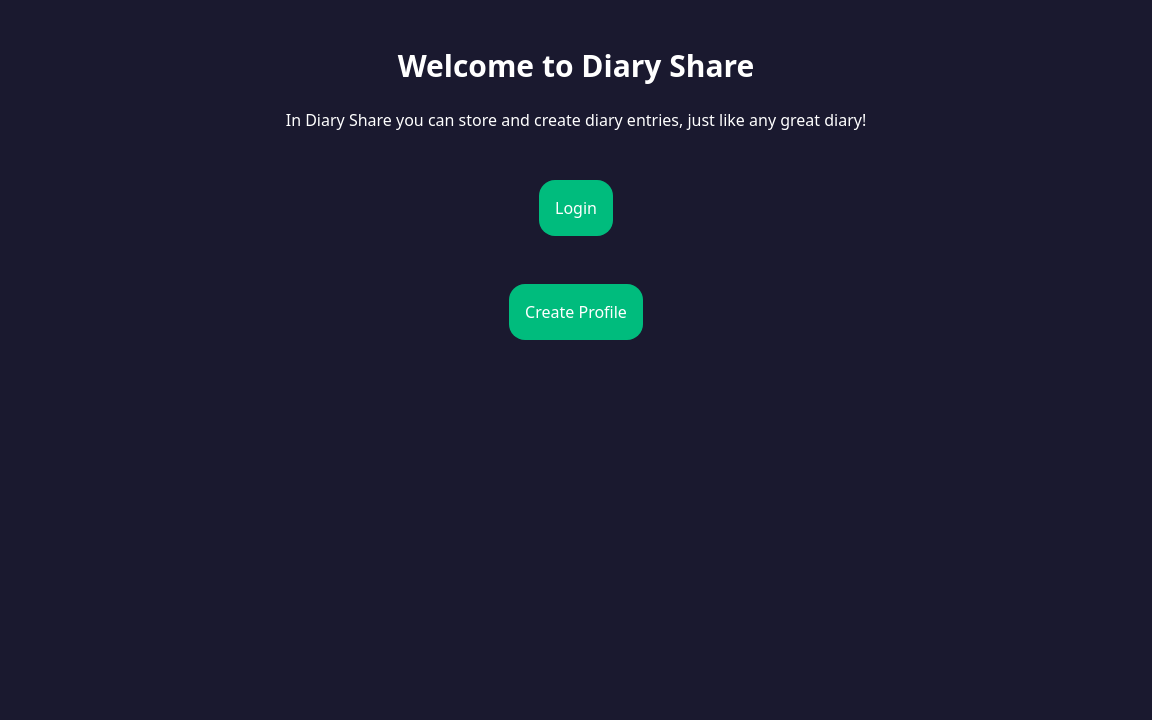
Scenario: user log in › renders correct elements
The width and height of the screenshot is (1152, 720).
Click the link with test id "cypress-login-link" at [551, 168], box [539,157,613,236]
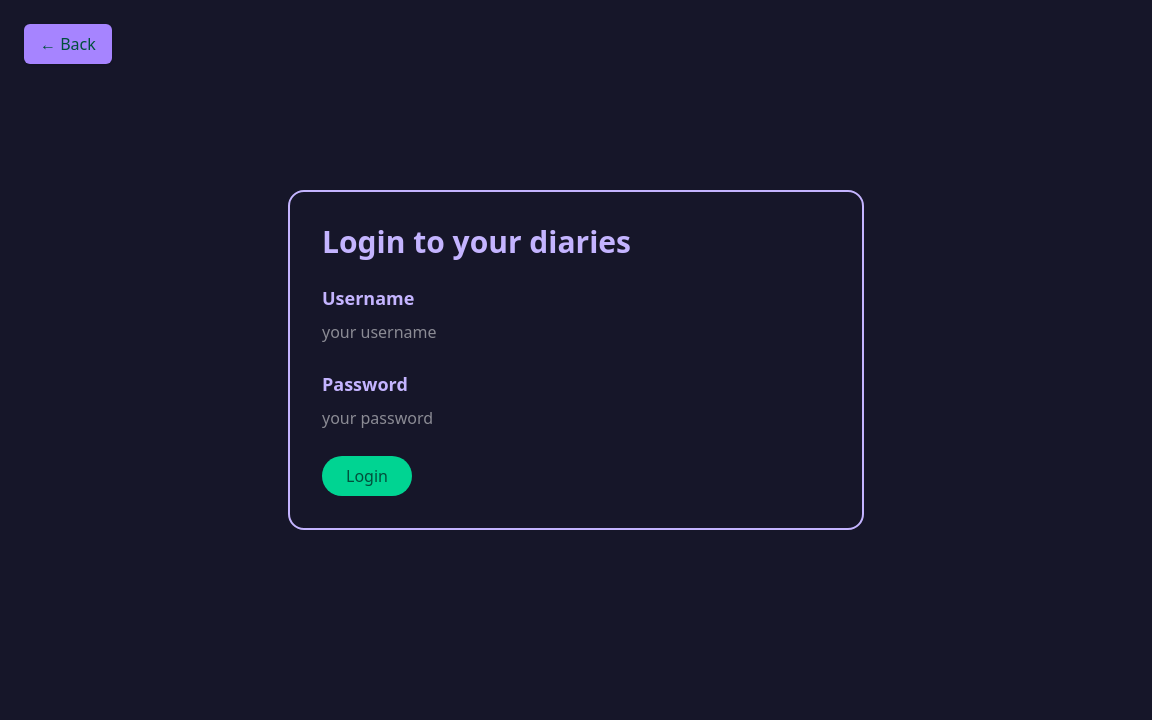
Expected: the heading with test id "cypress-title" reads "Login to your diaries", [322,221,631,262]
Expected: the field with test id "cypress-usernameFormInput" is empty, [322,320,830,346]
Expected: the password field with test id "cypress-passwordFormInput" is empty, [322,406,830,432]
